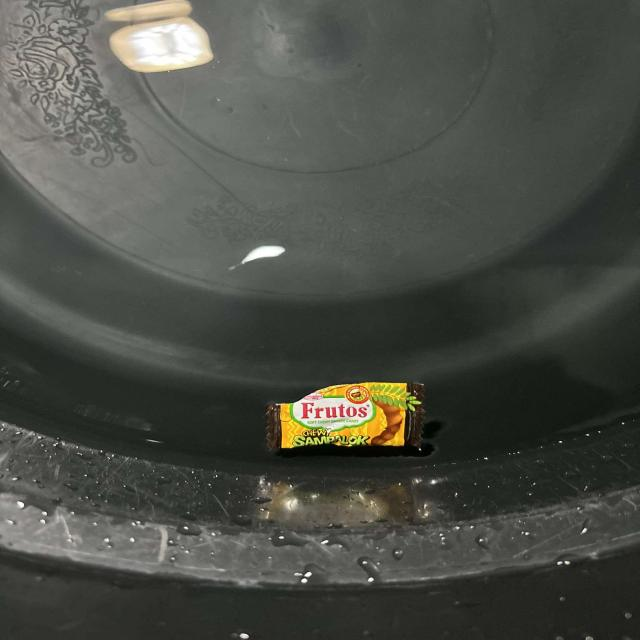Plastic Wrapper: (266, 382, 433, 456)
